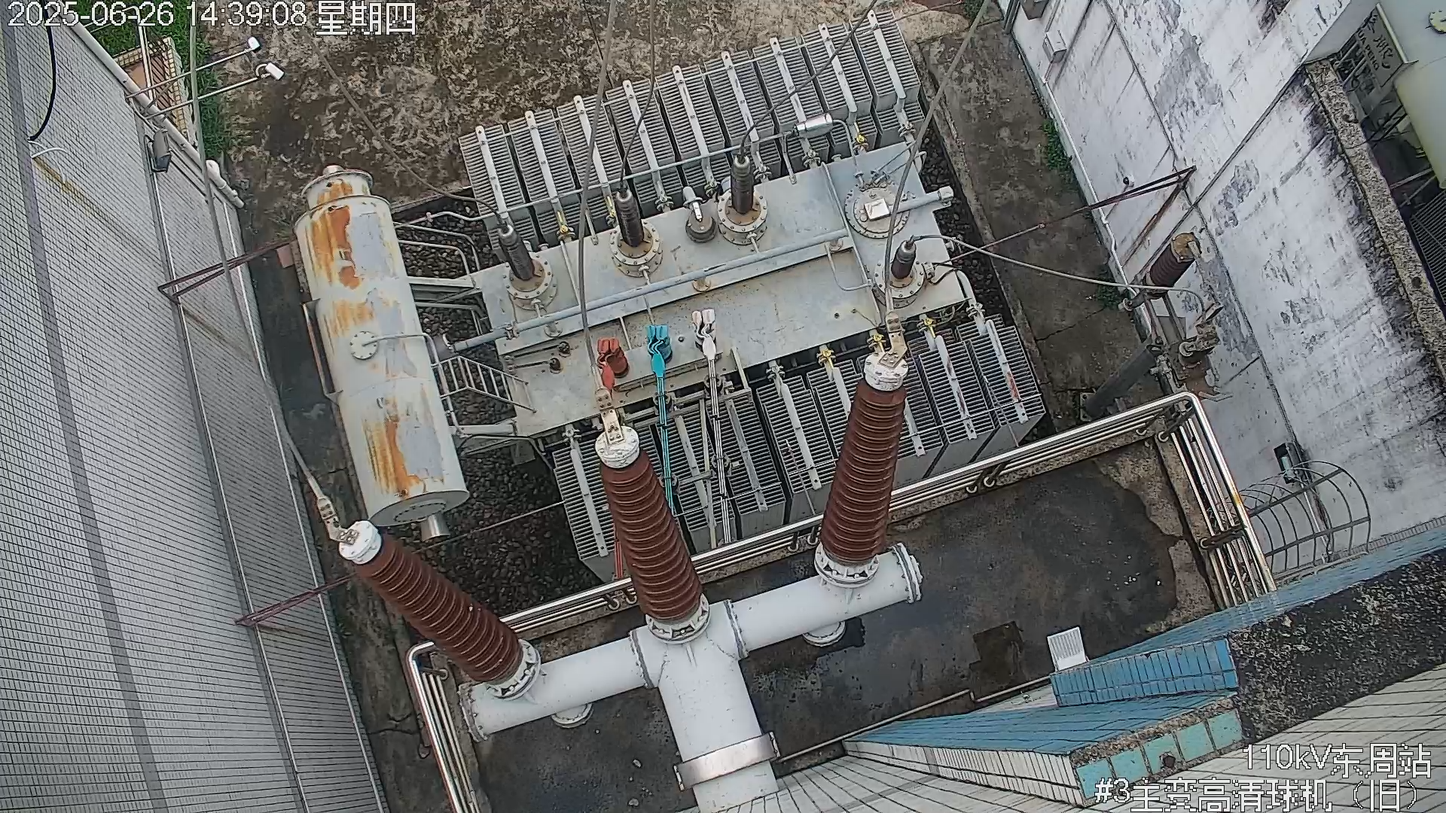MainTR: (290, 3, 1047, 583)
